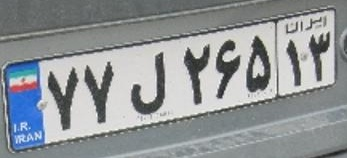character: (125, 46, 171, 116), (42, 65, 82, 136), (80, 57, 118, 126), (179, 40, 212, 107), (212, 34, 243, 101), (242, 29, 273, 91), (307, 29, 332, 84), (282, 34, 305, 88)
